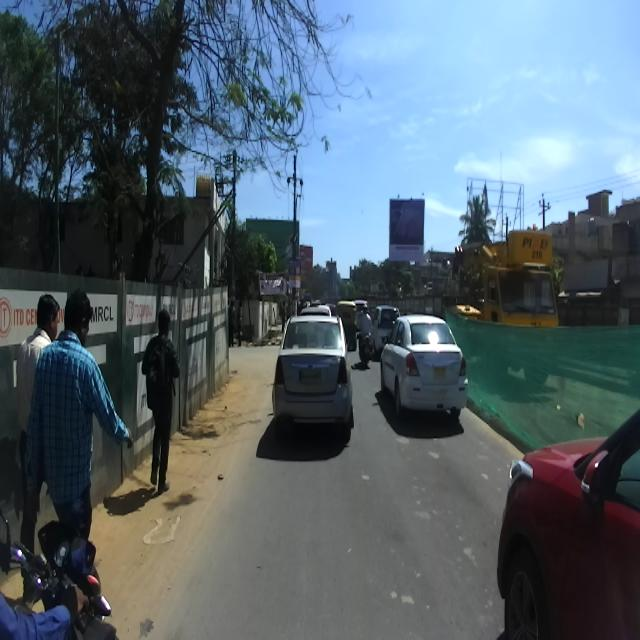car ahead at: (498, 395, 640, 640), (273, 296, 353, 449), (378, 310, 472, 426)
person ahead at: (18, 296, 108, 525), (142, 306, 177, 494)
